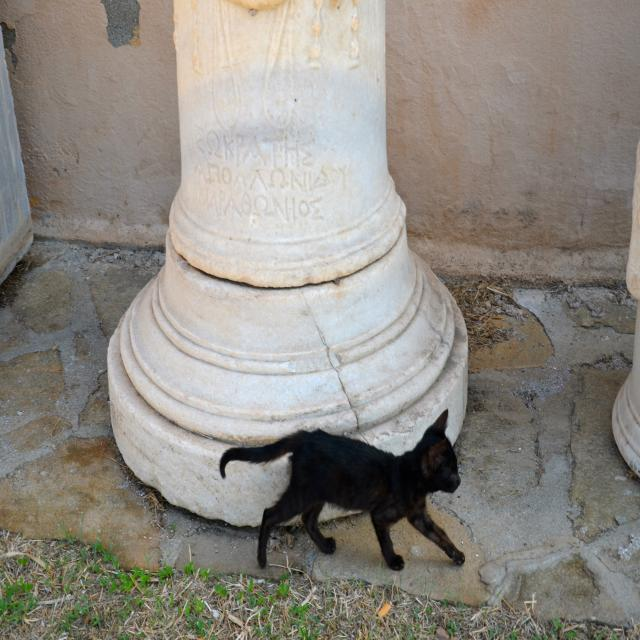cat: (220, 410, 465, 570)
